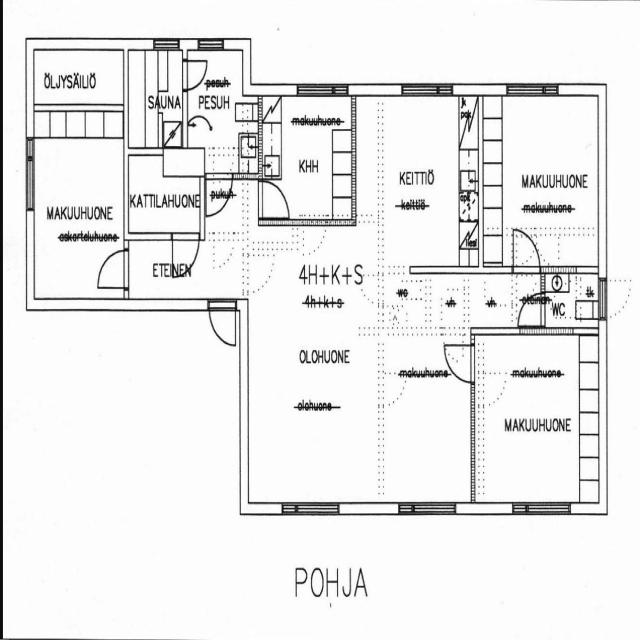door: (95, 248, 128, 290), (208, 303, 239, 347), (511, 227, 541, 271), (603, 278, 633, 319), (260, 180, 290, 220), (172, 233, 200, 274), (205, 175, 232, 217), (249, 257, 275, 293), (482, 373, 508, 408), (184, 59, 208, 91)
window: (338, 499, 401, 519), (408, 498, 458, 520), (524, 498, 572, 520), (506, 80, 556, 100), (400, 81, 451, 100), (295, 500, 340, 520), (24, 154, 37, 214), (297, 81, 341, 98), (153, 36, 179, 51), (280, 501, 298, 517)
zone: (251, 270, 474, 506), (357, 94, 482, 274), (475, 329, 602, 506), (481, 92, 602, 272), (31, 105, 128, 303), (263, 93, 355, 221), (184, 47, 258, 178), (127, 152, 203, 236), (32, 48, 128, 113), (130, 48, 185, 153), (543, 270, 602, 334), (443, 343, 473, 382)
